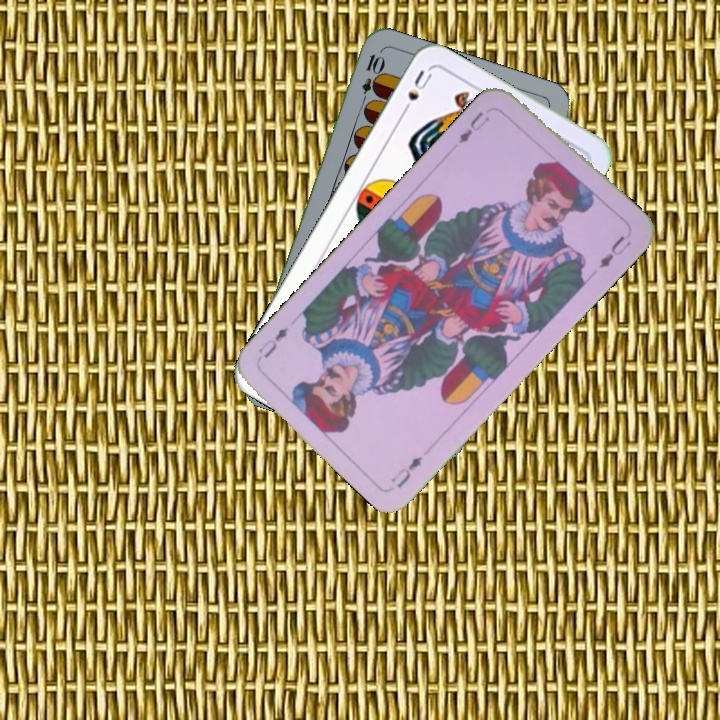E10: (357, 50, 385, 109)
EU: (386, 452, 426, 492), (453, 107, 492, 147)
SU: (397, 65, 435, 119)
